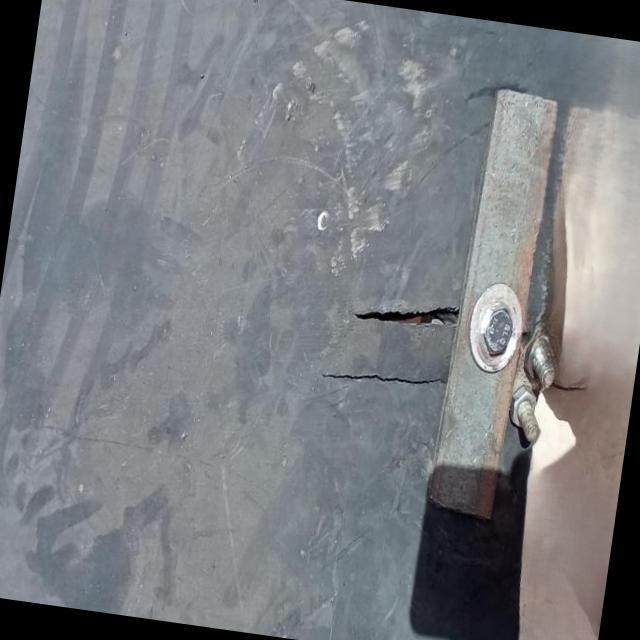Tear: (342, 292, 462, 336), (306, 369, 456, 394)
